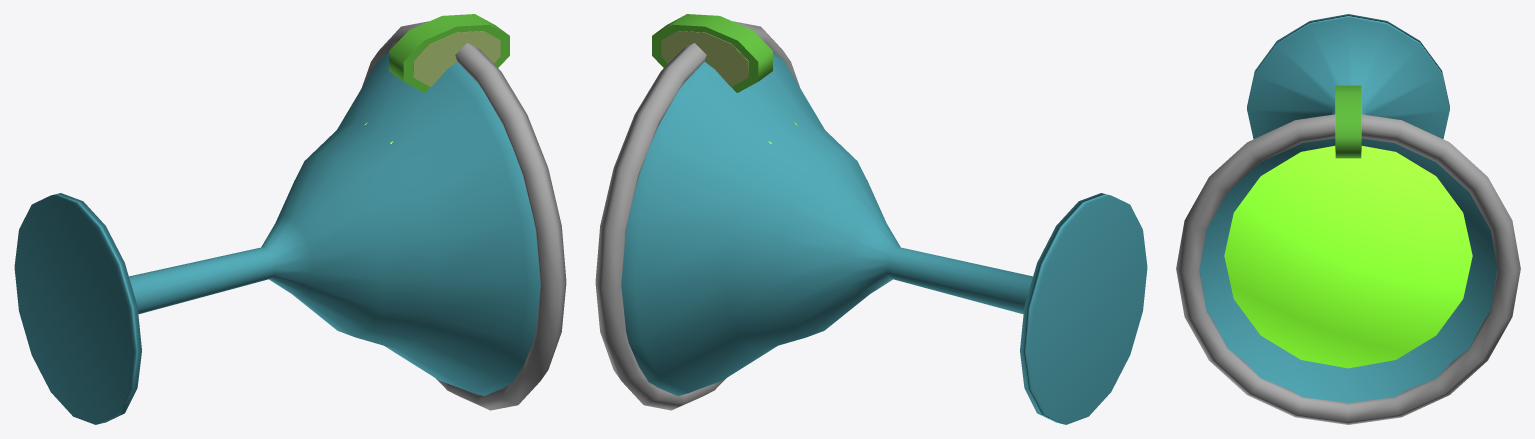
The model's file is margarita-glass.glb.
The picture shows the model from 3 angles, left to right: view 1: azimuth 30°, elevation 25°; view 2: azimuth 150°, elevation 25°; view 3: azimuth 270°, elevation 25°; orthographic projection. The views are drawn at different scales.
Parts seen in each view (by area): view 1: Mesh_Glass, Mesh_Salt, Mesh_Lime, Mesh_Pith; view 2: Mesh_Glass, Mesh_Salt, Mesh_Lime, Mesh_Pith; view 3: Mesh_Drink, Mesh_Glass, Mesh_Salt, Mesh_Lime.
Part boxes in pixels (x1,y1,x2,y2): Mesh_Glass: (14, 53, 540, 424); Mesh_Salt: (362, 21, 566, 410); Mesh_Lime: (389, 14, 509, 92); Mesh_Pith: (413, 31, 500, 86); Mesh_Glass: (621, 53, 1147, 424); Mesh_Salt: (595, 21, 799, 410); Mesh_Lime: (652, 14, 772, 92); Mesh_Pith: (661, 31, 748, 86); Mesh_Drink: (1224, 146, 1472, 368); Mesh_Glass: (1199, 14, 1497, 402); Mesh_Salt: (1176, 114, 1520, 424); Mesh_Lime: (1335, 85, 1361, 158).
Size of the model in its own units: 0.8446 by 0.7105 by 0.68.
